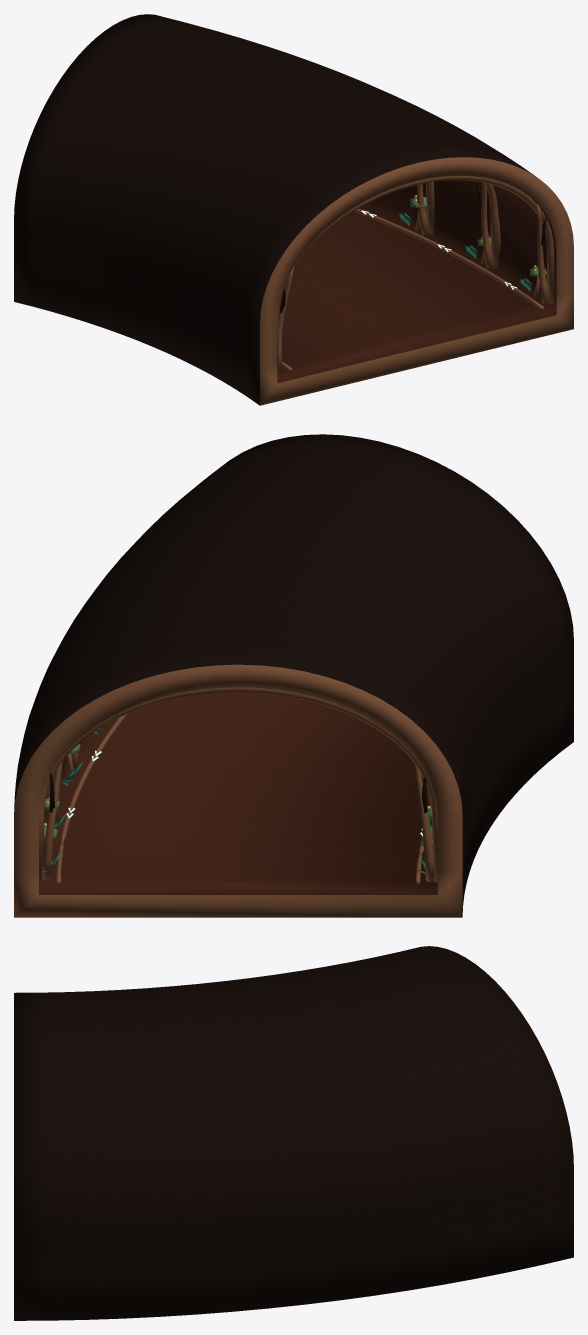
The model's file is curve_left_30_lod1.glb.
3 views of the same model, one above another, from view 1: azimuth 30°, elevation 25°; view 2: azimuth 150°, elevation 25°; view 3: azimuth 270°, elevation 25° (orthographic). The views are drawn at different scales.
Visible parts, largest first — view 1: TunnelGeometry.001; view 2: TunnelGeometry.001; view 3: TunnelGeometry.001.
Part boxes in pixels (left/top/right/bottom): TunnelGeometry.001: left=14, top=14, right=573, bottom=405; TunnelGeometry.001: left=14, top=434, right=573, bottom=917; TunnelGeometry.001: left=14, top=946, right=573, bottom=1320.
Size of the model in its own units: 19.1 by 9.52 by 21.83.
7 materials, 2 textured.
